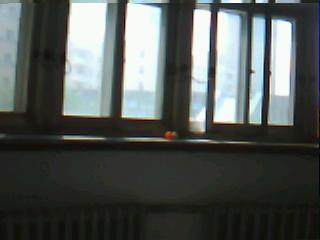oball: (165, 132, 172, 139)
